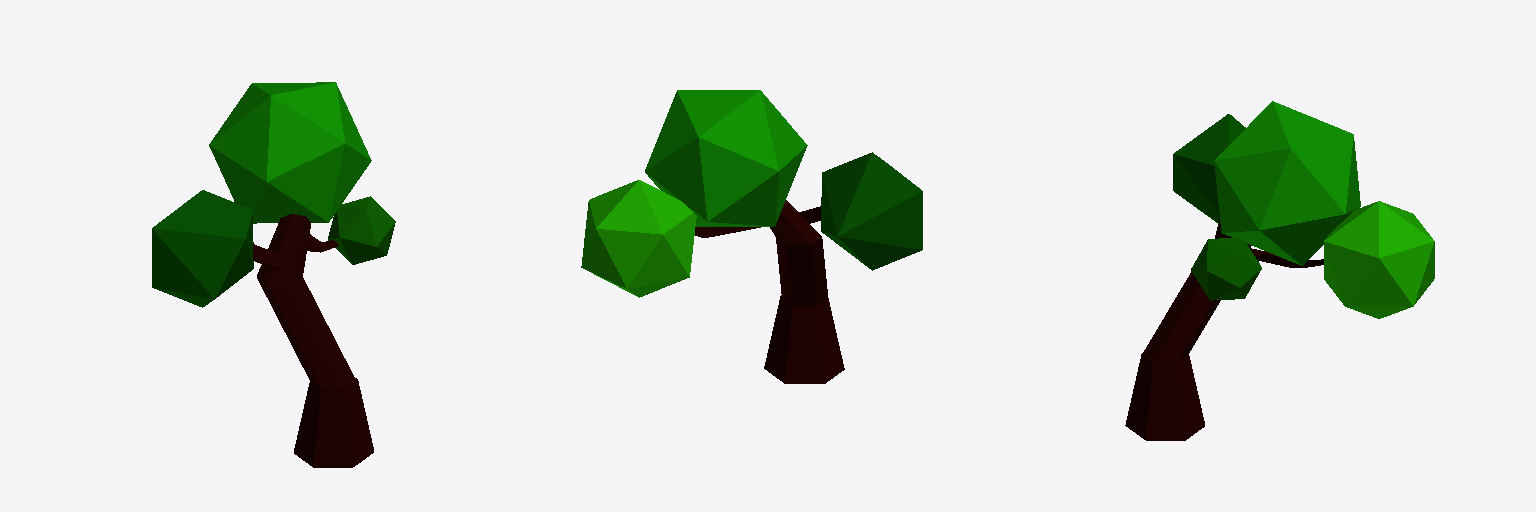
Rendered from tree2.obj.
3 renders of one model, left to right at view 1: azimuth 30°, elevation 25°; view 2: azimuth 150°, elevation 25°; view 3: azimuth 270°, elevation 25°, orthographic.
Visible parts, largest first — view 1: Icosphere.001, Cylinder.006_Cylinder.005, Icosphere, Cylinder, Icosphere.004; view 2: Icosphere.001, Icosphere.002, Icosphere, Cylinder.006_Cylinder.005, Cylinder; view 3: Icosphere.001, Icosphere.002, Cylinder, Cylinder.006_Cylinder.005, Icosphere, Icosphere.004.
Part boxes in pixels (x1,y1,x2,y2): Icosphere.001: (209,82,371,223); Cylinder.006_Cylinder.005: (253,214,355,467); Icosphere: (152,190,253,307); Cylinder: (315,378,373,466); Icosphere.004: (328,196,395,264); Icosphere.001: (645,90,807,226); Icosphere.002: (581,180,696,297); Icosphere: (821,152,922,270); Cylinder.006_Cylinder.005: (695,200,844,383); Cylinder: (764,295,792,382); Icosphere.001: (1214,101,1360,265); Icosphere.002: (1324,201,1434,318); Cylinder: (1125,353,1204,439); Cylinder.006_Cylinder.005: (1143,219,1323,440); Icosphere: (1173,114,1245,222); Icosphere.004: (1191,238,1261,300).
Size of the model in its own units: 7.47 by 8.84 by 7.73.